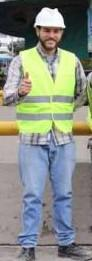hat: (30, 2, 71, 61)
vest: (14, 40, 84, 144), (77, 64, 92, 146)
